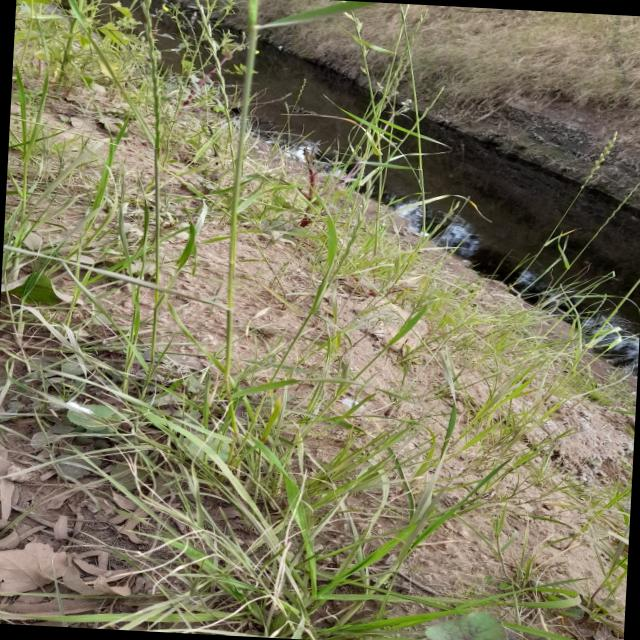Lolium: (91, 362, 574, 640), (286, 442, 512, 640), (358, 438, 538, 616), (302, 5, 428, 219), (330, 10, 416, 287), (512, 129, 626, 305)
